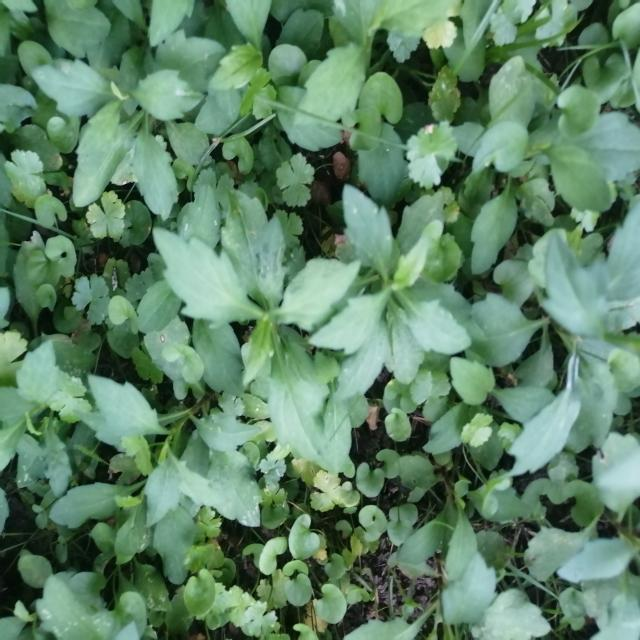Indian aster: (164, 203, 350, 474), (337, 174, 479, 424)
